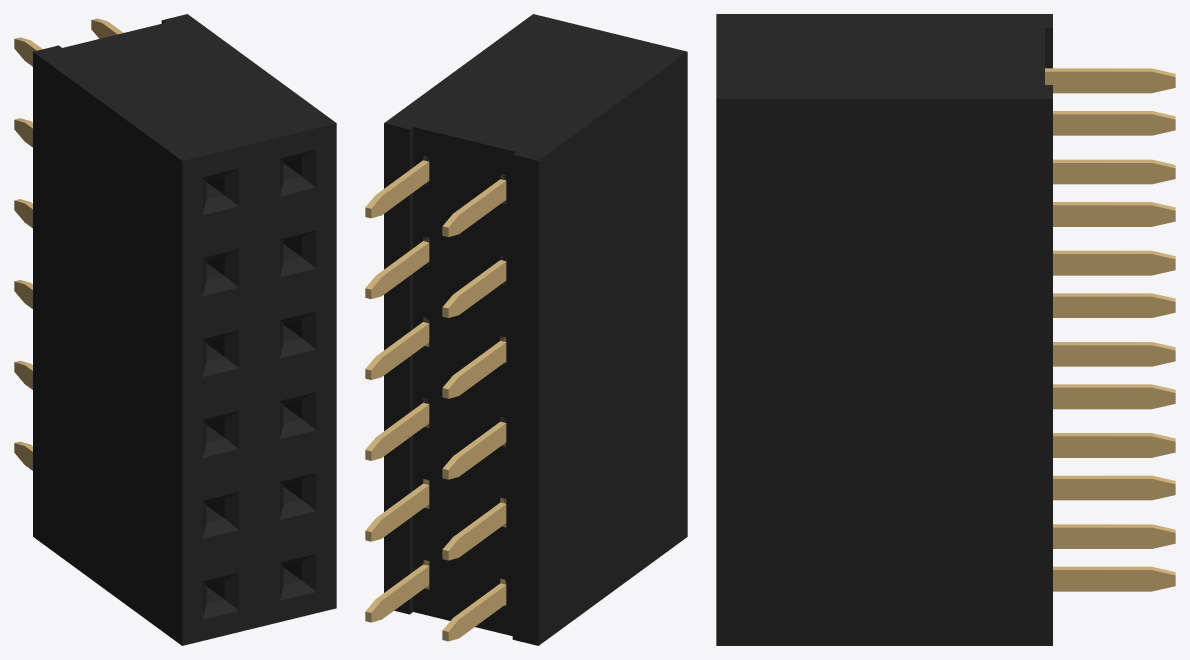
Rendered from socket-2x06.glb.
The picture shows the model from 3 angles, left to right: view 1: azimuth 30°, elevation 25°; view 2: azimuth 150°, elevation 25°; view 3: azimuth 270°, elevation 25°; orthographic projection. The views are drawn at different scales.
Parts seen in each view (by area): view 1: IC-BODY-EPOXY-04, PIN-02; view 2: IC-BODY-EPOXY-04, PIN-02 (×9); view 3: IC-BODY-EPOXY-04, PIN-02 (×9).
Part boxes in pixels (x1,y1,x2,y2): IC-BODY-EPOXY-04: (33, 14, 336, 645); PIN-02: (14, 18, 123, 470); IC-BODY-EPOXY-04: (384, 14, 687, 645); PIN-02 (×9): (365, 156, 506, 641); IC-BODY-EPOXY-04: (716, 14, 1052, 645); PIN-02 (×9): (1045, 68, 1175, 591).
Size of the model in its own units: 5.08 by 15.24 by 11.6.
